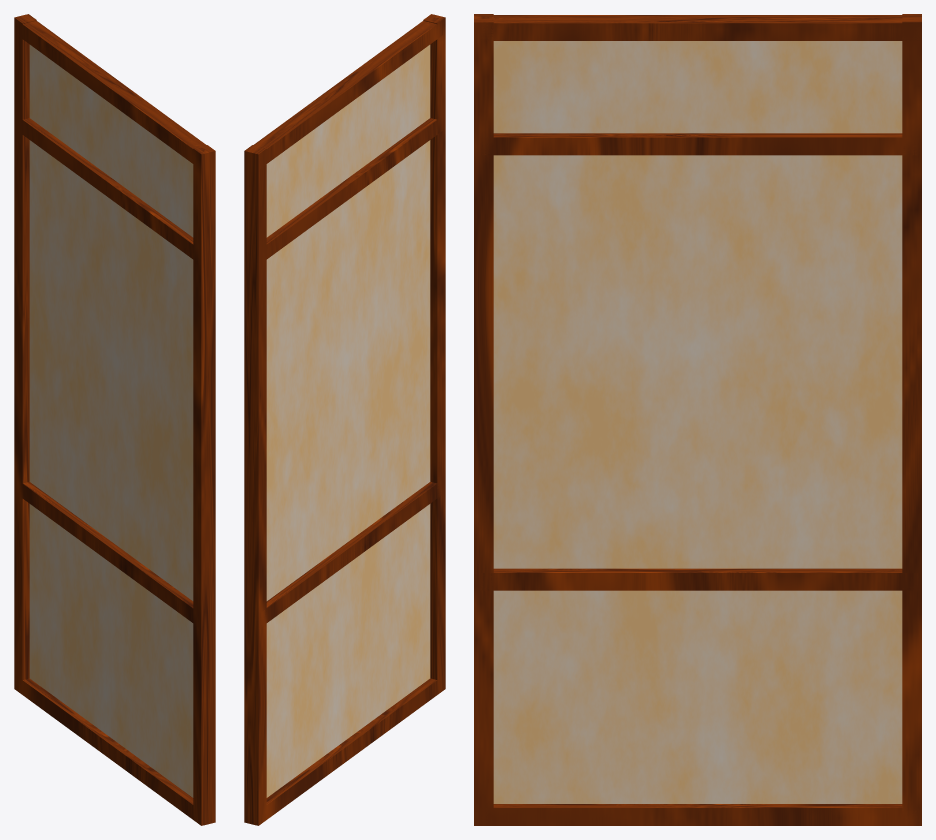
File: anothawall.glb
3 views of the same model, side by side, from view 1: azimuth 30°, elevation 25°; view 2: azimuth 150°, elevation 25°; view 3: azimuth 270°, elevation 25° (orthographic). The views are drawn at different scales.
Parts seen in each view (by area): view 1: Plane, frame; view 2: Plane, frame; view 3: Plane, frame.
Boxes of the visible parts, box(x1,y1,x2,y2) form: Plane: box(29, 45, 193, 797); frame: box(14, 14, 215, 825); Plane: box(266, 45, 430, 797); frame: box(244, 14, 445, 825); Plane: box(493, 41, 902, 803); frame: box(474, 14, 921, 825).
Bounding box in the file's own units: 0.4 × 18 × 9.09.
Materials: 2 (2 with a texture image).
